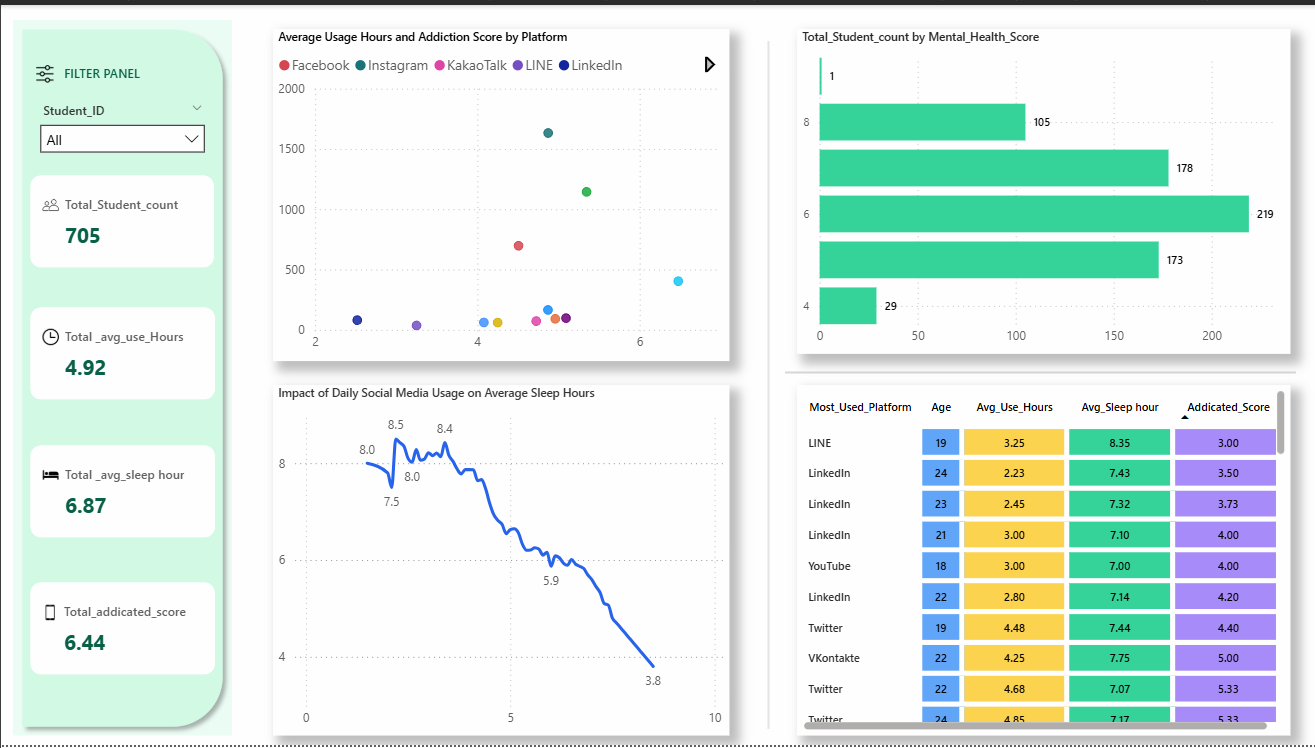

This screenshot's page, from the dashboard's own definition file:
{"tool":"powerbi","page":{"name":"Addiction Impact","canvas":[1280,720],"ordinal":2},"visuals":[{"type":"scatterChart","title":"Average Usage Hours and Addiction Score by Platform","fields":{"X":["social_media_addication ssma.Total _avg_use_Hours"],"Y":["Sum(social_media_addication ssma.Addicted_Score)"],"Series":["social_media_addication ssma.Most_Used_Platform"]},"box":[264.6,23.3,444.5,322.9],"z":0},{"type":"lineChart","title":"Impact of Daily Social Media Usage on Average Sleep Hours","fields":{"Category":["social_media_addication ssma.Avg_Daily_Usage_Hours"],"Y":["social_media_addication ssma.Total _avg_sleep hour"]},"box":[264.6,369.6,444.5,341.4],"z":1000},{"type":"clusteredBarChart","fields":{"Category":["social_media_addication ssma.Mental_Health_Score"],"Y":["social_media_addication ssma.Total_Student_count"]},"box":[774.2,23.3,480.5,316.1],"z":2000},{"type":"tableEx","fields":{"Values":["social_media_addication ssma.Most_Used_Platform","social_media_addication ssma.Age (groups)","social_media_addication ssma.Total _avg_use_Hours","social_media_addication ssma.Total _avg_sleep hour","social_media_addication ssma.Toatal_addicated_score"]},"box":[774.2,369.6,479.5,341.4],"z":3000},{"type":"shape","box":[11.7,14.6,213,696.4],"z":4000},{"type":"cardVisual","fields":{"Data":["social_media_addication ssma.Total_Student_count"]},"box":[23.3,160.5,189.7,100.2],"z":5000},{"type":"image","box":[29.2,53.5,27.2,27.2],"z":6000},{"type":"textbox","box":[56.4,51.6,108,29.2],"z":7000},{"type":"cardVisual","fields":{"Data":["social_media_addication ssma.Total _avg_use_Hours"]},"box":[23.3,288.9,190.6,100.2],"z":8000},{"type":"cardVisual","fields":{"Data":["social_media_addication ssma.Total _avg_sleep hour"]},"box":[23.3,423.1,190.6,100.2],"z":9000},{"type":"cardVisual","fields":{"Data":["social_media_addication ssma.Toatal_addicated_score"]},"box":[23.3,556.4,190.6,100.2],"z":10000},{"type":"shape","box":[762.6,352.1,497,10.7],"z":11000},{"type":"slicer","fields":{"Values":["social_media_addication ssma.Student_ID"]},"box":[28.2,88.5,179.9,60.3],"z":12000},{"type":"shape","box":[739.2,35,14.6,669.2],"z":13000}]}

Visuals, with their boxes on the page's 1280x720 design canvas (x1, y1, x2, y2). These are canvas units, not pixel positions in the 1315x748 screenshot, which may show the page scaled, cropped or inside an application window:
"Average Usage Hours and Addiction Score by Platform" scatterChart: select_region(265, 23, 709, 346)
"Impact of Daily Social Media Usage on Average Sleep Hours" lineChart: select_region(265, 370, 709, 711)
clusteredBarChart - social_media_addication ssma.Mental_Health_Score x social_media_addication ssma.Total_Student_count: select_region(774, 23, 1255, 339)
tableEx - social_media_addication ssma.Most_Used_Platform x social_media_addication ssma.Age (groups): select_region(774, 370, 1254, 711)
shape: select_region(12, 15, 225, 711)
cardVisual - social_media_addication ssma.Total_Student_count: select_region(23, 160, 213, 261)
image: select_region(29, 54, 56, 81)
textbox: select_region(56, 52, 164, 81)
cardVisual - social_media_addication ssma.Total _avg_use_Hours: select_region(23, 289, 214, 389)
cardVisual - social_media_addication ssma.Total _avg_sleep hour: select_region(23, 423, 214, 523)
cardVisual - social_media_addication ssma.Toatal_addicated_score: select_region(23, 556, 214, 657)
shape: select_region(763, 352, 1260, 363)
slicer - social_media_addication ssma.Student_ID: select_region(28, 88, 208, 149)
shape: select_region(739, 35, 754, 704)
